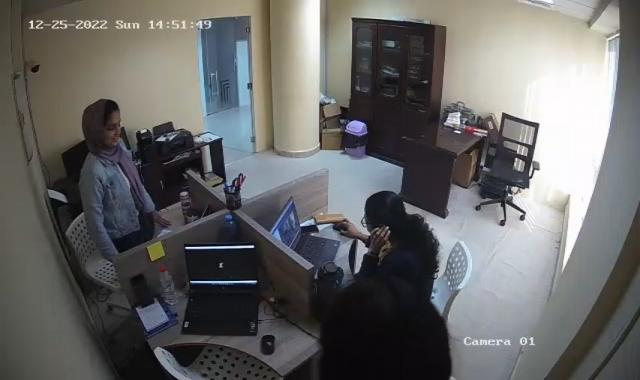no_hairnet: (326, 286, 449, 380), (78, 101, 121, 152), (361, 193, 408, 234)
